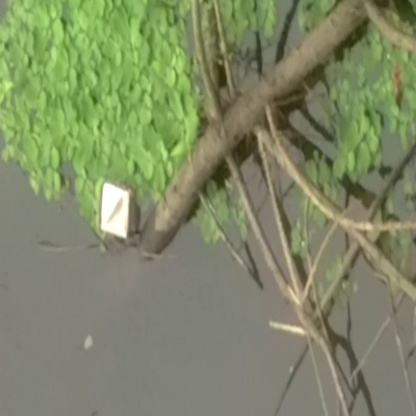branch: (144, 3, 403, 253)
